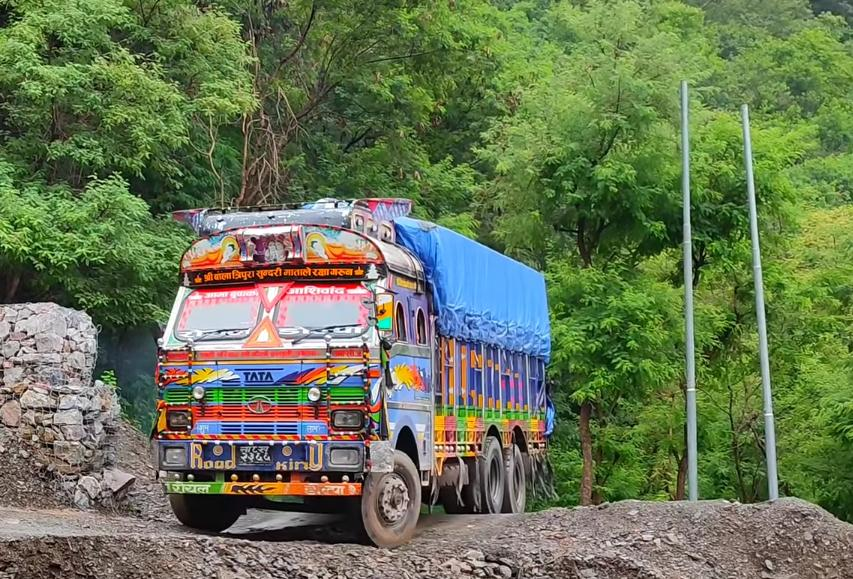truck: (148, 195, 556, 549)
